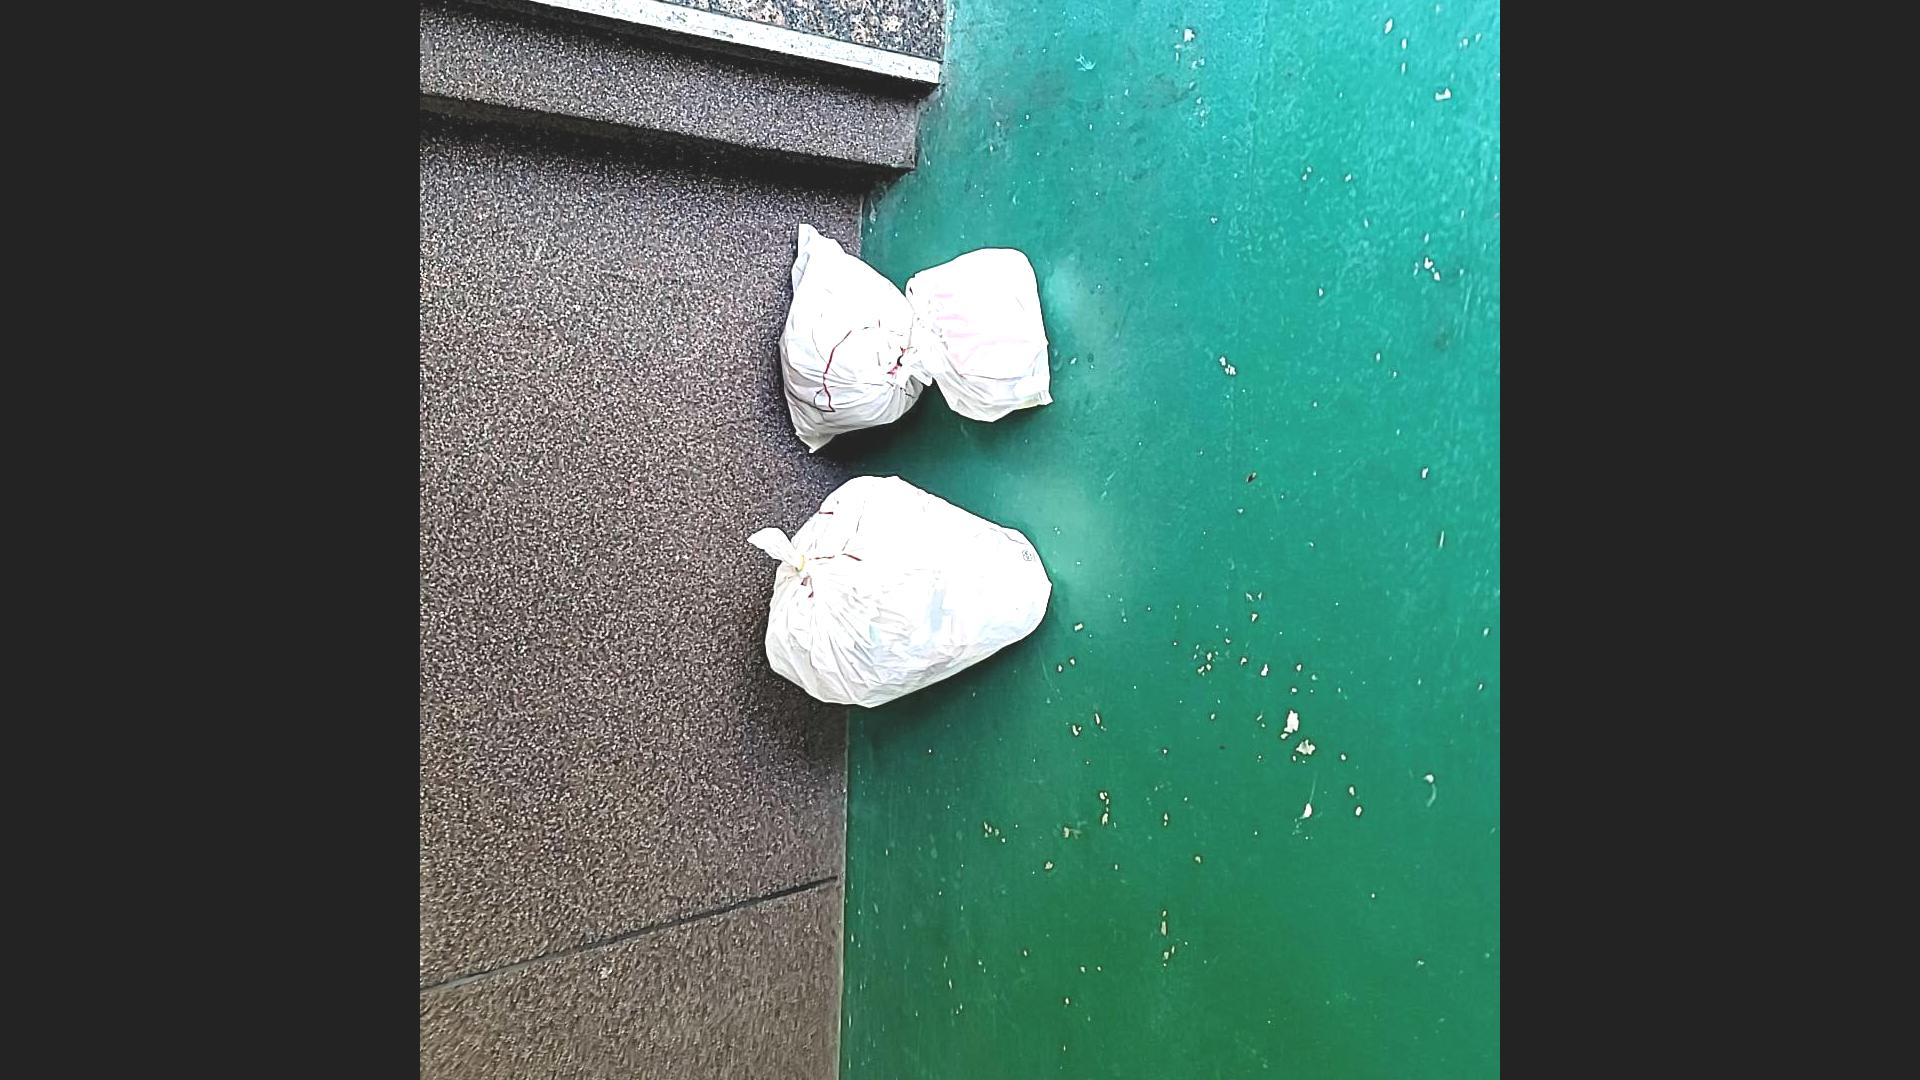white_bag: (736, 465, 1069, 729), (764, 219, 931, 458), (887, 233, 1064, 438)
